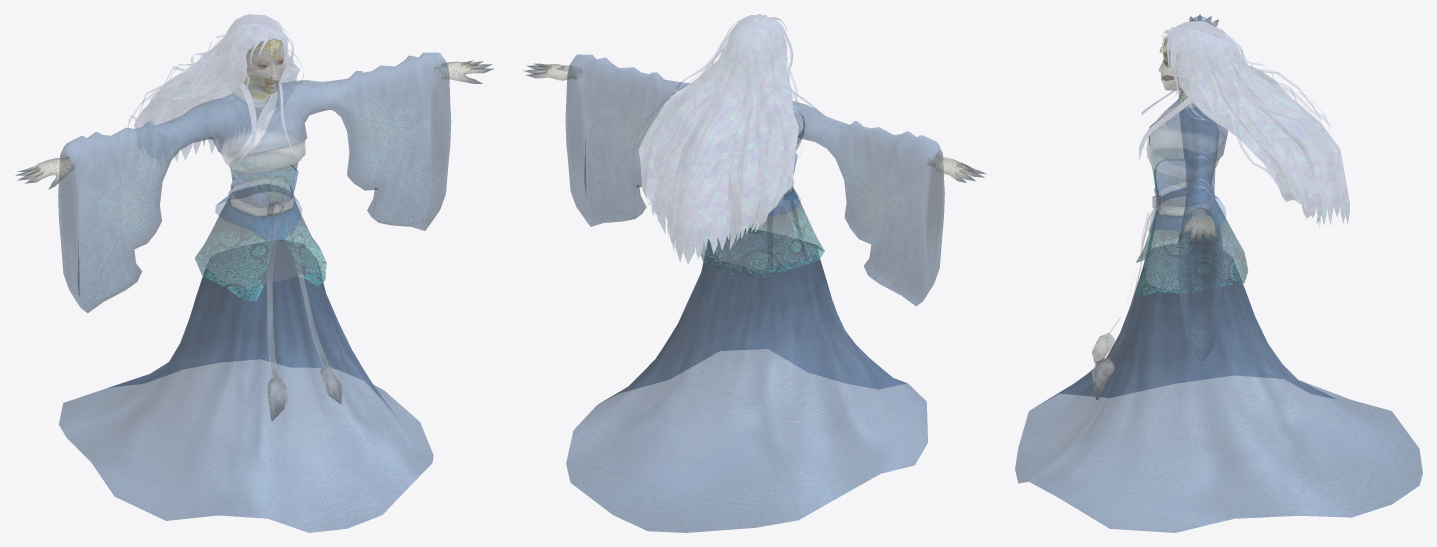
Rendered from Water Dragon.obj.
3 renders of one model, left to right at view 1: azimuth 30°, elevation 25°; view 2: azimuth 150°, elevation 25°; view 3: azimuth 270°, elevation 25°, orthographic. The views are drawn at different scales.
Visible parts, largest first — view 1: Mesh_0096.rip, Mesh_0097.rip, Mesh_0094.rip, Mesh_0095.rip; view 2: Mesh_0096.rip, Mesh_0097.rip, Mesh_0094.rip, Mesh_0095.rip; view 3: Mesh_0096.rip, Mesh_0097.rip, Mesh_0094.rip, Mesh_0095.rip.
Part boxes in pixels (x1,y1,x2,y2): Mesh_0096.rip: (59, 39, 433, 532); Mesh_0097.rip: (15, 52, 493, 312); Mesh_0094.rip: (131, 14, 298, 159); Mesh_0095.rip: (135, 17, 298, 156); Mesh_0096.rip: (566, 164, 927, 532); Mesh_0097.rip: (523, 54, 985, 305); Mesh_0094.rip: (639, 14, 818, 262); Mesh_0095.rip: (639, 14, 818, 258); Mesh_0096.rip: (1015, 35, 1422, 532); Mesh_0097.rip: (1146, 14, 1227, 361); Mesh_0094.rip: (1139, 22, 1349, 223); Mesh_0095.rip: (1139, 22, 1349, 222).
Bounding box in the file's own units: 1.83 × 1.64 × 1.35.
4 materials, 4 textured.
